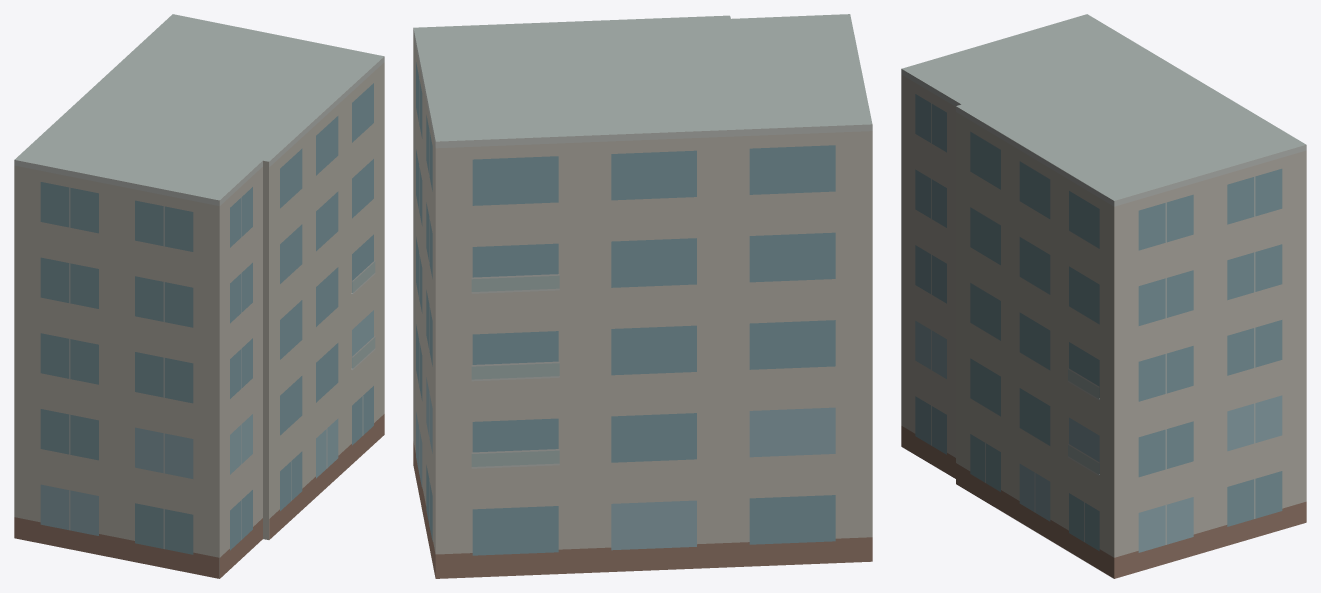
Rendered from survey-upis-32536463.glb.
The picture shows the model from 3 angles, left to right: view 1: azimuth 30°, elevation 25°; view 2: azimuth 150°, elevation 25°; view 3: azimuth 270°, elevation 25°; orthographic projection. The views are drawn at different scales.
Visible parts, largest first — view 1: survey-upis-32536463.tmp; view 2: survey-upis-32536463.tmp; view 3: survey-upis-32536463.tmp.
Part boxes in pixels (box(x1,y1,x2,y2)): survey-upis-32536463.tmp: box(14, 14, 384, 578); survey-upis-32536463.tmp: box(413, 14, 872, 578); survey-upis-32536463.tmp: box(901, 14, 1306, 578).
Size of the model in its own units: 17.04 by 16.05 by 15.6.
